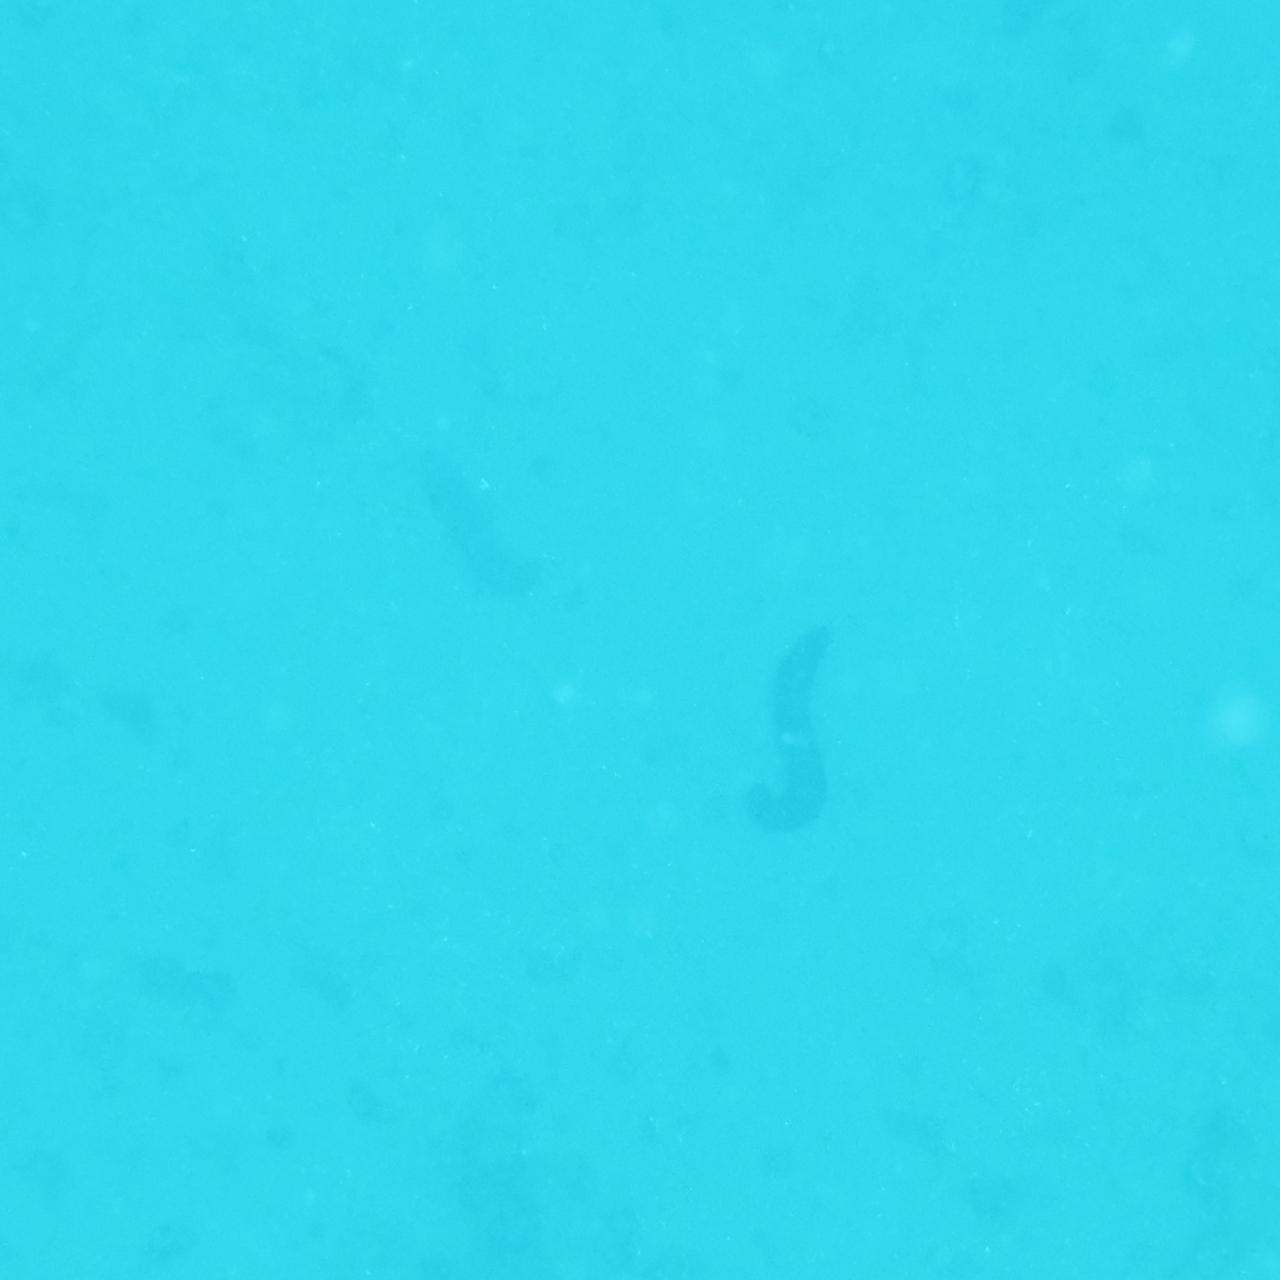Holothuria tubulosa: (395, 461, 565, 621), (749, 615, 852, 863)
